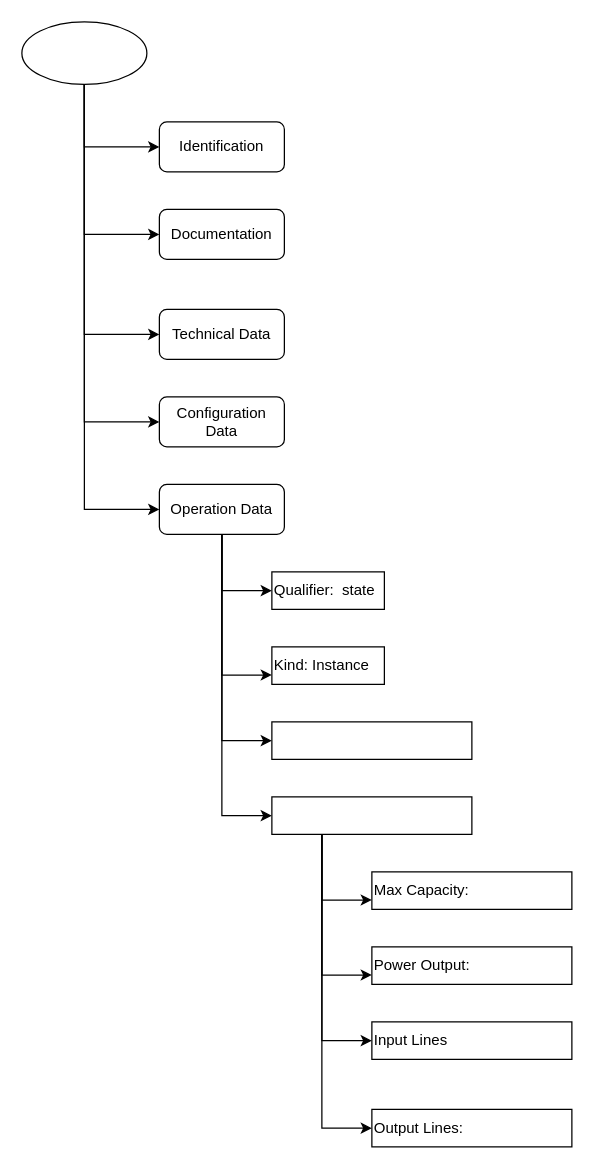
Image size: 594x1169. Some labels were removed from this diagram. The centre of each missing label's shape, as x and y in pixels:
Semantic Id: asdasdasd: (371,740)
SubModelElements:: (371,815)
Substation: (84,52)
